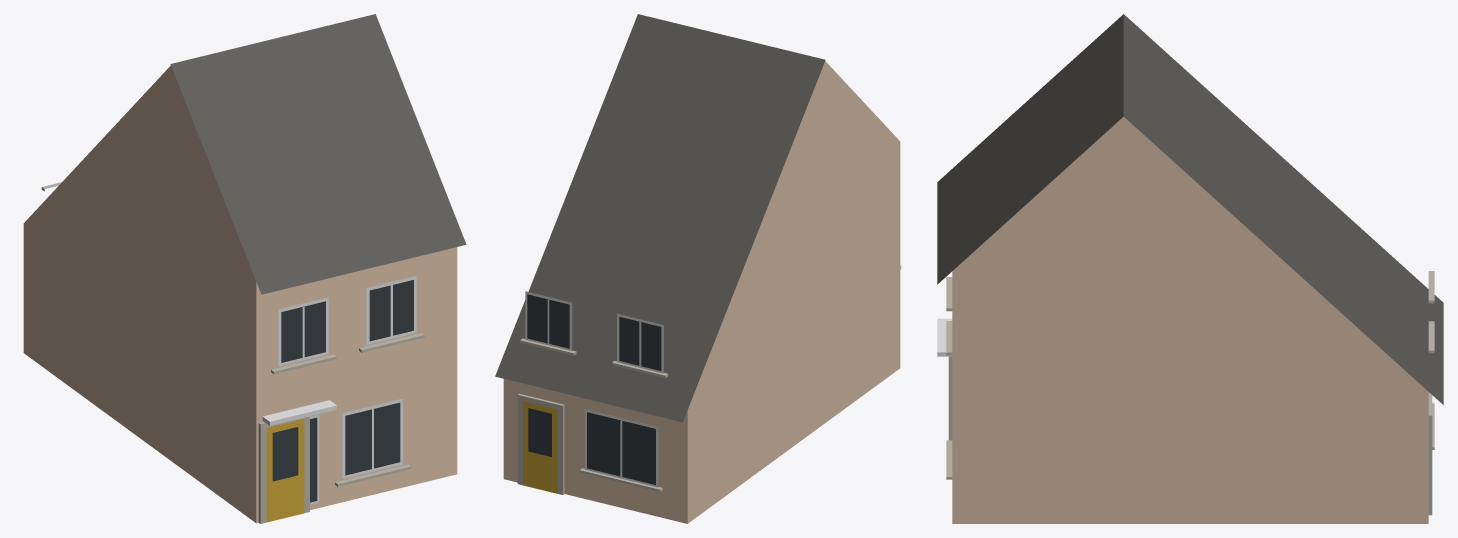
File: nw-ma-yellow-door__beige__2__gable__long__solid.glb
The picture shows the model from 3 angles, left to right: view 1: azimuth 30°, elevation 25°; view 2: azimuth 150°, elevation 25°; view 3: azimuth 270°, elevation 25°; orthographic projection. The views are drawn at different scales.
Visible parts, largest first — view 1: nw-ma-yellow-door__beige__2__gable__long__solid; view 2: nw-ma-yellow-door__beige__2__gable__long__solid; view 3: nw-ma-yellow-door__beige__2__gable__long__solid.
Boxes of the visible parts, x1,y1,x2,y2 form: nw-ma-yellow-door__beige__2__gable__long__solid: (23, 14, 466, 523); nw-ma-yellow-door__beige__2__gable__long__solid: (495, 14, 901, 523); nw-ma-yellow-door__beige__2__gable__long__solid: (937, 14, 1443, 523).
Size of the model in its own units: 4.89 by 9.08 by 10.2.
